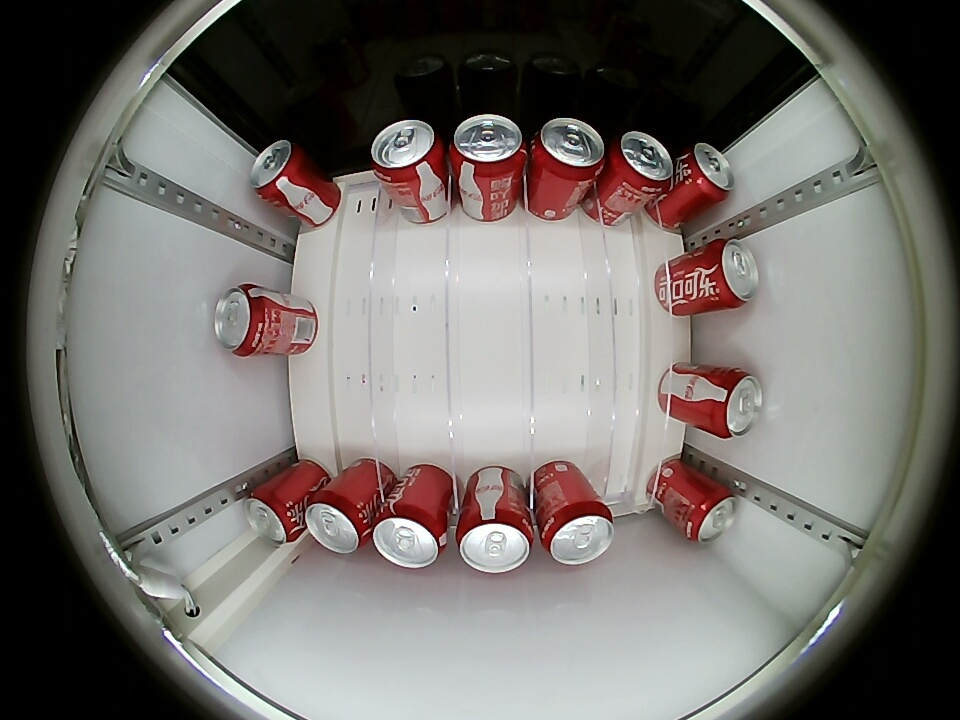kele: (456, 509, 535, 574), (539, 500, 615, 566), (373, 504, 448, 569), (451, 114, 527, 177), (370, 120, 446, 183), (530, 118, 605, 181), (607, 130, 674, 195), (213, 283, 271, 357), (304, 491, 371, 555), (708, 369, 764, 439), (705, 238, 760, 309), (249, 139, 305, 203), (243, 485, 302, 545), (681, 142, 735, 204), (682, 485, 737, 544)
